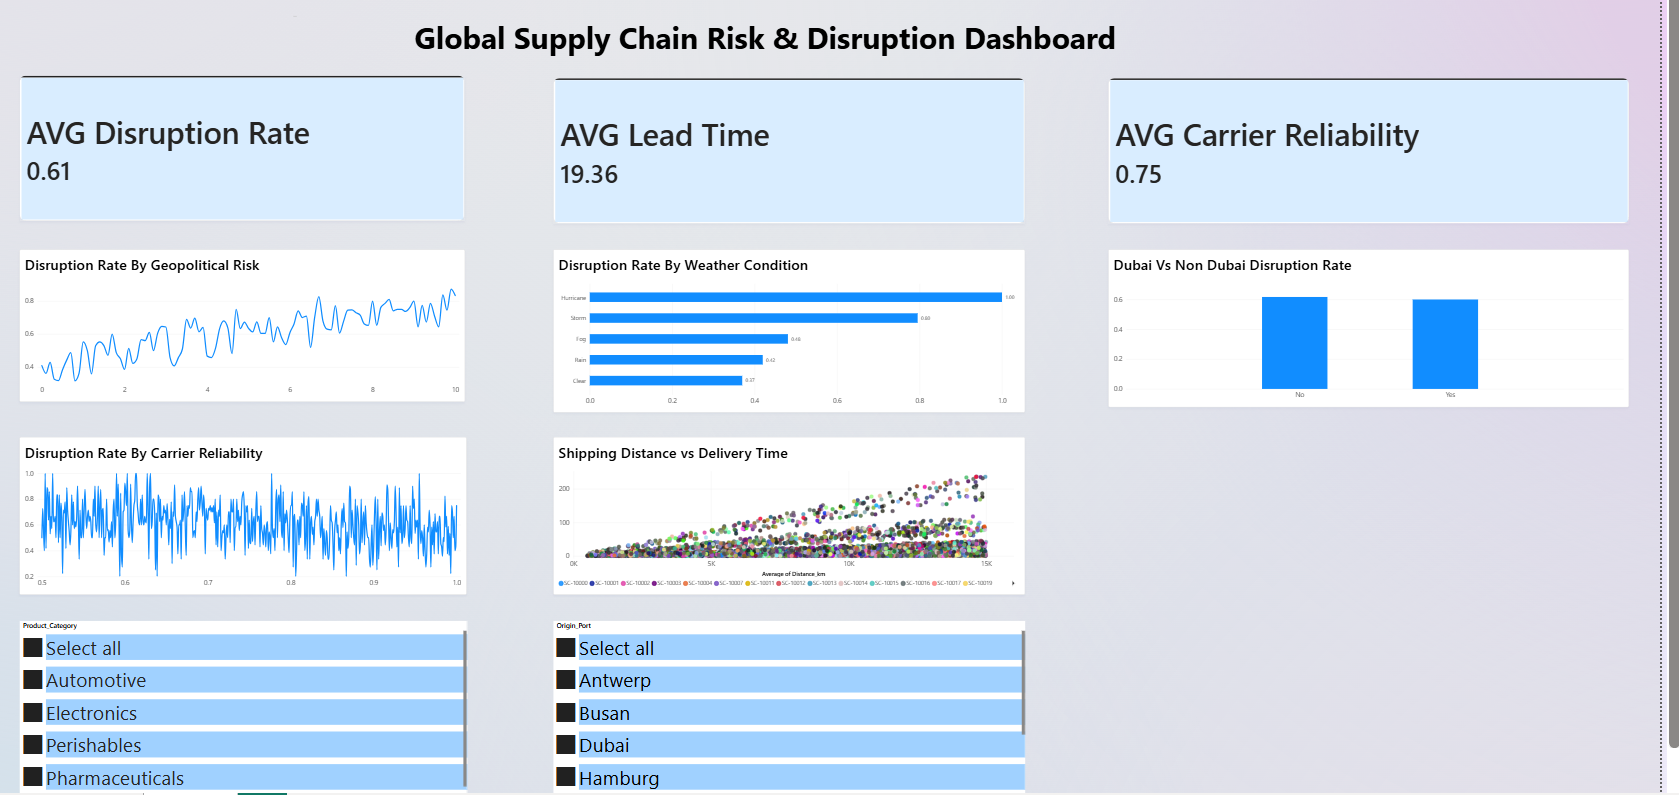

The page's visual inventory and layout, read from the dashboard file:
{"tool":"powerbi","page":{"name":"Page 1","canvas":[4000,2000],"ordinal":0},"visuals":[{"type":"lineChart","title":" Disruption Rate By Geopolitical Risk","fields":{"Category":["global_supply_chain_risk_2026.Geopolitical_Risk_Score"],"Y":["Avg(global_supply_chain_risk_2026.Disruption_Occurred)"]},"box":[54.8,607.1,1070.8,366.8],"z":0},{"type":"clusteredBarChart","title":"Disruption Rate By Weather Condition","fields":{"Category":["global_supply_chain_risk_2026.Weather_Condition"],"Y":["Avg(global_supply_chain_risk_2026.Disruption_Occurred)"]},"box":[1336.4,607.1,1134.1,392.1],"z":1000},{"type":"clusteredColumnChart","title":"Dubai Vs Non Dubai Disruption Rate","fields":{"Category":["global_supply_chain_risk_2026.involves_dubai"],"Y":["Avg(global_supply_chain_risk_2026.Disruption_Occurred)"]},"box":[2672.9,607.1,1252.1,379.4],"z":2000},{"type":"lineChart","title":" Disruption Rate By Carrier Reliability","fields":{"Category":["global_supply_chain_risk_2026.Carrier_Reliability_Score"],"Y":["Avg(global_supply_chain_risk_2026.Disruption_Occurred)"]},"box":[54.8,1058.2,1075,379.4],"z":3000},{"type":"cardVisual","fields":{"Data":["Avg(global_supply_chain_risk_2026.Disruption_Occurred)"]},"box":[54.8,189.7,1070.8,349.9],"z":4000},{"type":"cardVisual","fields":{"Data":["Avg(global_supply_chain_risk_2026.Lead_Time_Days)"]},"box":[1336.4,193.9,1134.1,349.9],"z":5000},{"type":"cardVisual","fields":{"Data":["Avg(global_supply_chain_risk_2026.Carrier_Reliability_Score)"]},"box":[2672.9,193.9,1252.1,349.9],"z":6000},{"type":"scatterChart","title":"Shipping Distance vs Delivery Time","fields":{"Y":["Avg(global_supply_chain_risk_2026.Lead_Time_Days)"],"X":["Avg(global_supply_chain_risk_2026.Distance_km)"],"Series":["global_supply_chain_risk_2026.Shipment_ID"]},"box":[1336.4,1058.2,1134.1,379.4],"z":7000},{"type":"slicer","fields":{"Values":["global_supply_chain_risk_2026.Product_Category"]},"box":[54.8,1500.8,1075,442.7],"z":8000},{"type":"slicer","fields":{"Values":["global_supply_chain_risk_2026.Origin_Port"]},"box":[1336.4,1500.8,1134.1,442.7],"z":9000},{"type":"textbox","box":[0,45.9,720.4,2.7],"z":10000},{"type":"textbox","box":[1003,48.1,2357.5,140.6],"z":11000}]}

Visuals, with their boxes on the page's 4000x2000 design canvas (x1, y1, x2, y2). These are canvas units, not pixel positions in the 1679x795 screenshot, which may show the page scaled, cropped or inside an application window:
" Disruption Rate By Geopolitical Risk" lineChart: <box>55,607,1126,974</box>
"Disruption Rate By Weather Condition" clusteredBarChart: <box>1336,607,2470,999</box>
"Dubai Vs Non Dubai Disruption Rate" clusteredColumnChart: <box>2673,607,3925,986</box>
" Disruption Rate By Carrier Reliability" lineChart: <box>55,1058,1130,1438</box>
cardVisual - Avg(global_supply_chain_risk_2026.Disruption_Occurred): <box>55,190,1126,540</box>
cardVisual - Avg(global_supply_chain_risk_2026.Lead_Time_Days): <box>1336,194,2470,544</box>
cardVisual - Avg(global_supply_chain_risk_2026.Carrier_Reliability_Score): <box>2673,194,3925,544</box>
"Shipping Distance vs Delivery Time" scatterChart: <box>1336,1058,2470,1438</box>
slicer - global_supply_chain_risk_2026.Product_Category: <box>55,1501,1130,1944</box>
slicer - global_supply_chain_risk_2026.Origin_Port: <box>1336,1501,2470,1944</box>
textbox: <box>0,46,720,49</box>
textbox: <box>1003,48,3360,189</box>
